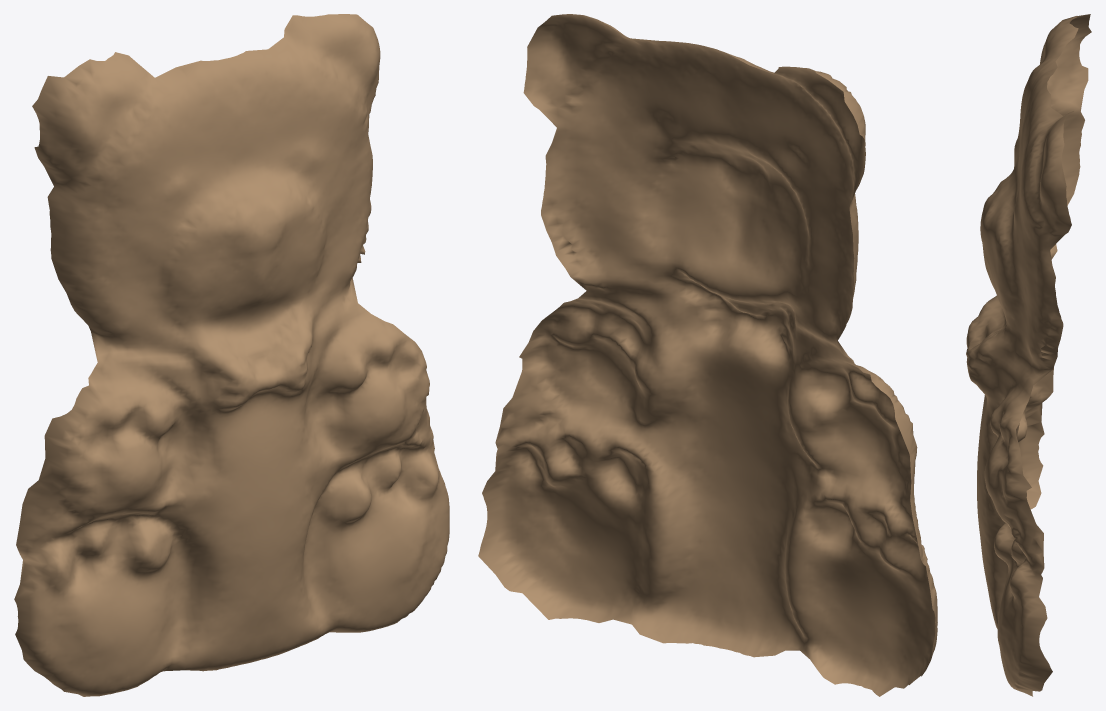
The model's file is real_bear.glb.
3 views of the same model, side by side, from view 1: azimuth 30°, elevation 25°; view 2: azimuth 150°, elevation 25°; view 3: azimuth 270°, elevation 25° (orthographic). The views are drawn at different scales.
Visible parts, largest first — view 1: result-20251217_135153-bear; view 2: result-20251217_135153-bear; view 3: result-20251217_135153-bear.
Boxes of the visible parts, bbox=[...] form: result-20251217_135153-bear: bbox=[14, 14, 449, 696]; result-20251217_135153-bear: bbox=[478, 14, 937, 696]; result-20251217_135153-bear: bbox=[966, 14, 1091, 696].
Bounding box in the file's own units: 0.949 × 1.28 × 0.264.
